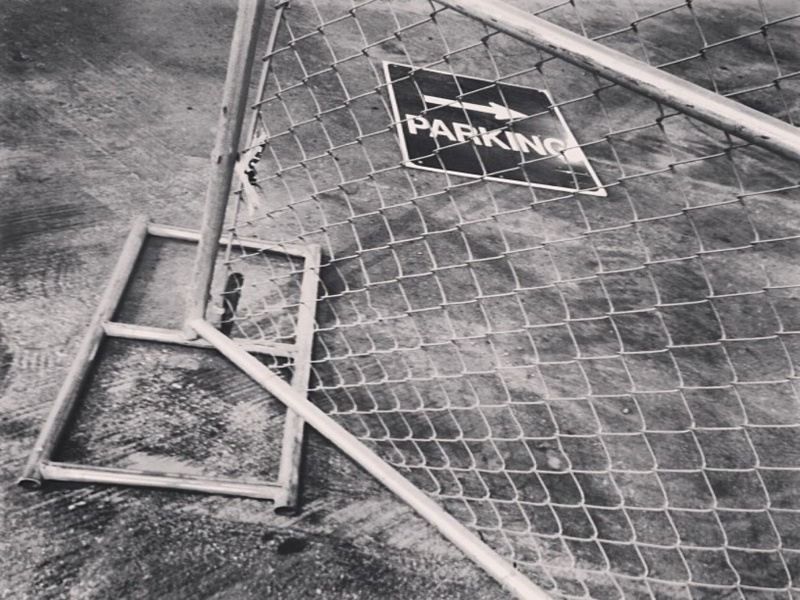right_direction: (420, 82, 533, 123)
